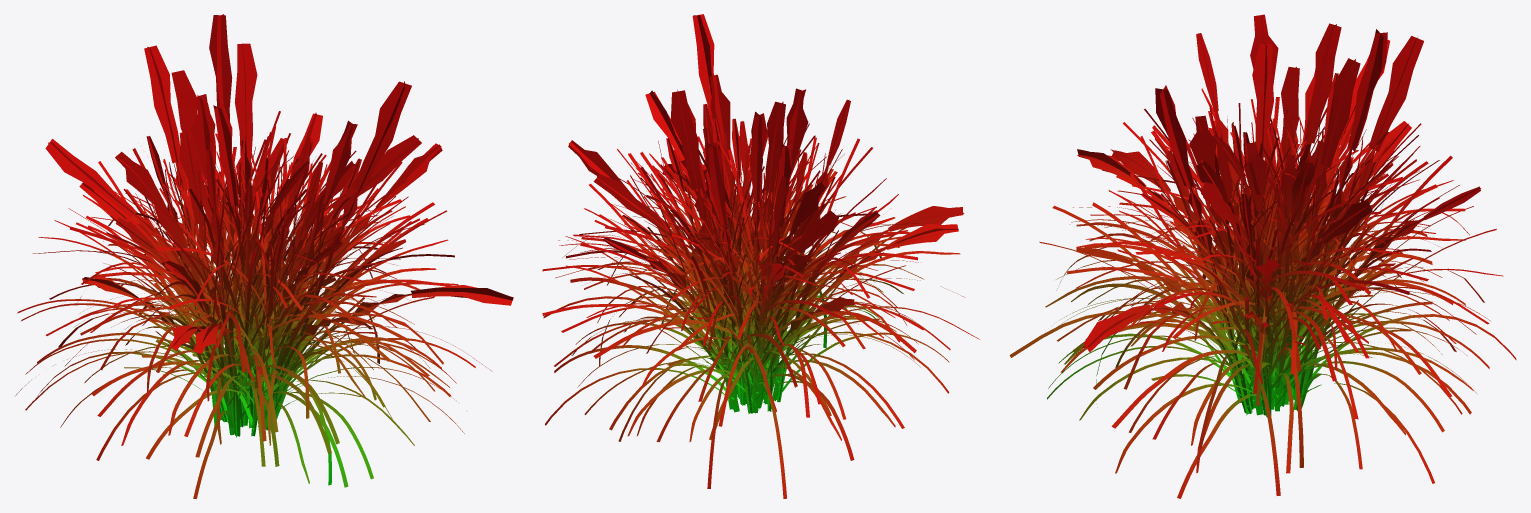
File: Basket Grass_LOD1_Var2_slfpffjr.fbx
3 renders of one model, left to right at view 1: azimuth 30°, elevation 25°; view 2: azimuth 150°, elevation 25°; view 3: azimuth 270°, elevation 25°, orthographic. The views are drawn at different scales.
Visible parts, largest first — view 1: _88d1_Var2_LOD1; view 2: _88d1_Var2_LOD1; view 3: _88d1_Var2_LOD1.
Part boxes in pixels (left/top/right/bottom): _88d1_Var2_LOD1: left=15, top=14, right=513, bottom=498; _88d1_Var2_LOD1: left=542, top=14, right=979, bottom=498; _88d1_Var2_LOD1: left=1009, top=14, right=1516, bottom=498.
Bounding box in the file's own units: 81.63 × 75.22 × 86.8.
